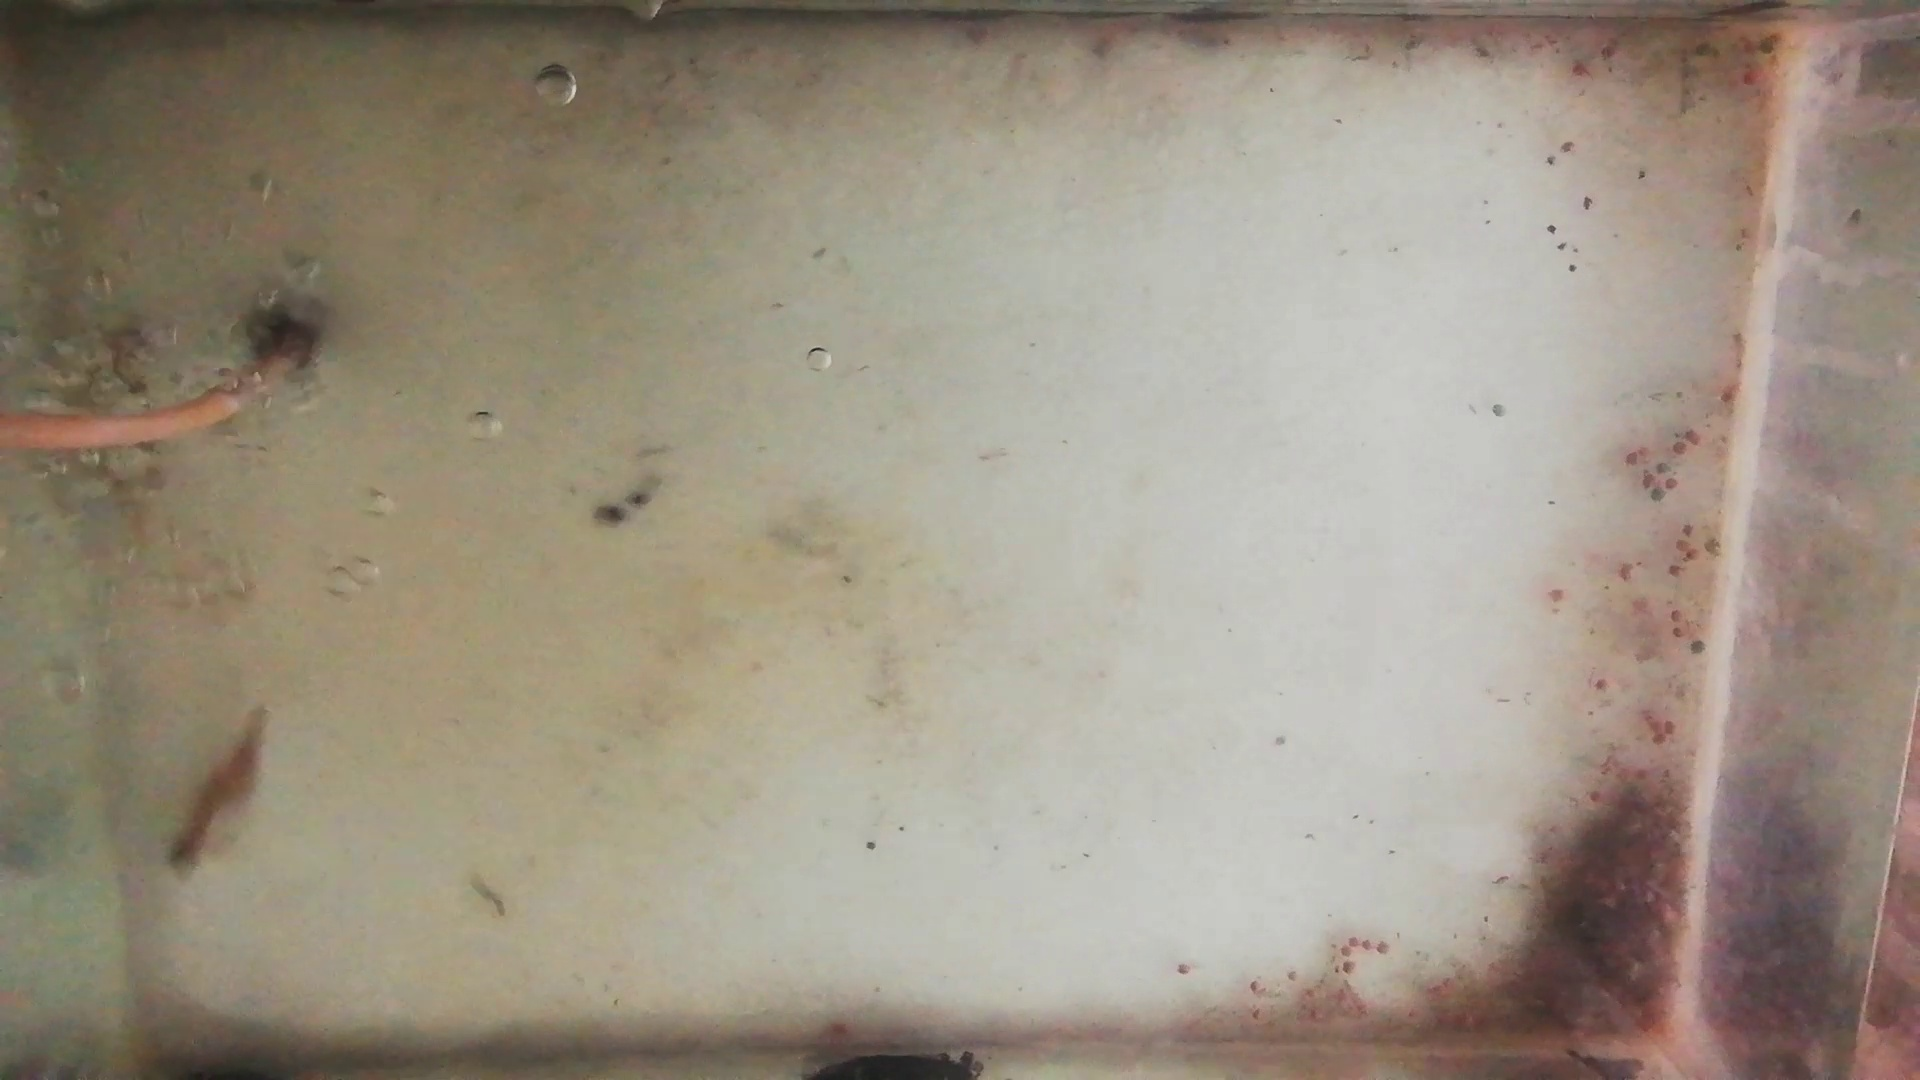fish: (164, 705, 270, 881), (84, 328, 158, 516)
